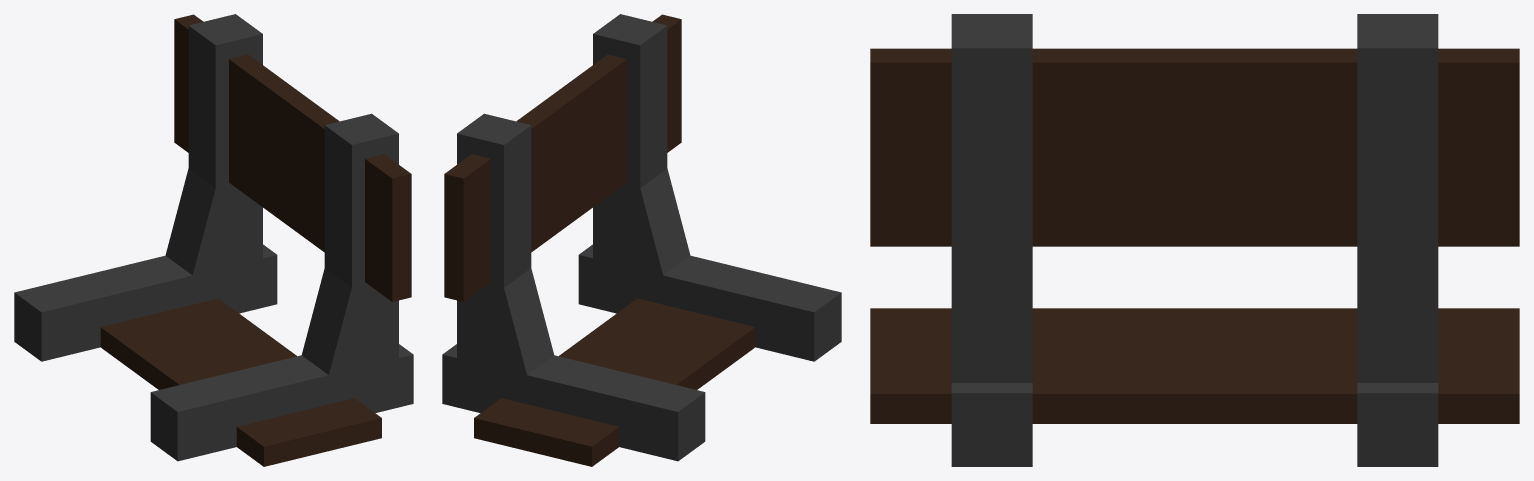
File: Cave_Lair_Rail_Road_Track_End_Stop_01.fbx
3 renders of one model, left to right at view 1: azimuth 30°, elevation 25°; view 2: azimuth 150°, elevation 25°; view 3: azimuth 270°, elevation 25°, orthographic. The views are drawn at different scales.
Visible parts, largest first — view 1: Cave_Lair_Rail_Road_Track_End_Stop_01; view 2: Cave_Lair_Rail_Road_Track_End_Stop_01; view 3: Cave_Lair_Rail_Road_Track_End_Stop_01.
Boxes of the visible parts, box(x1,y1,x2,y2) form: Cave_Lair_Rail_Road_Track_End_Stop_01: box(14, 14, 413, 466); Cave_Lair_Rail_Road_Track_End_Stop_01: box(442, 14, 841, 466); Cave_Lair_Rail_Road_Track_End_Stop_01: box(870, 14, 1519, 466).
Bounding box in the file's own units: 0.5 × 0.5548 × 0.8.
